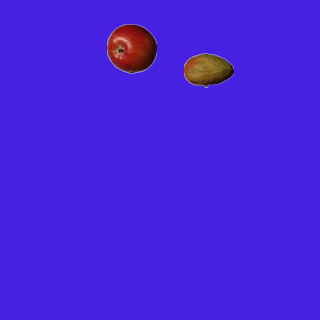Apple Braeburn: (106, 23, 156, 73)
Papaya: (183, 45, 233, 95)
